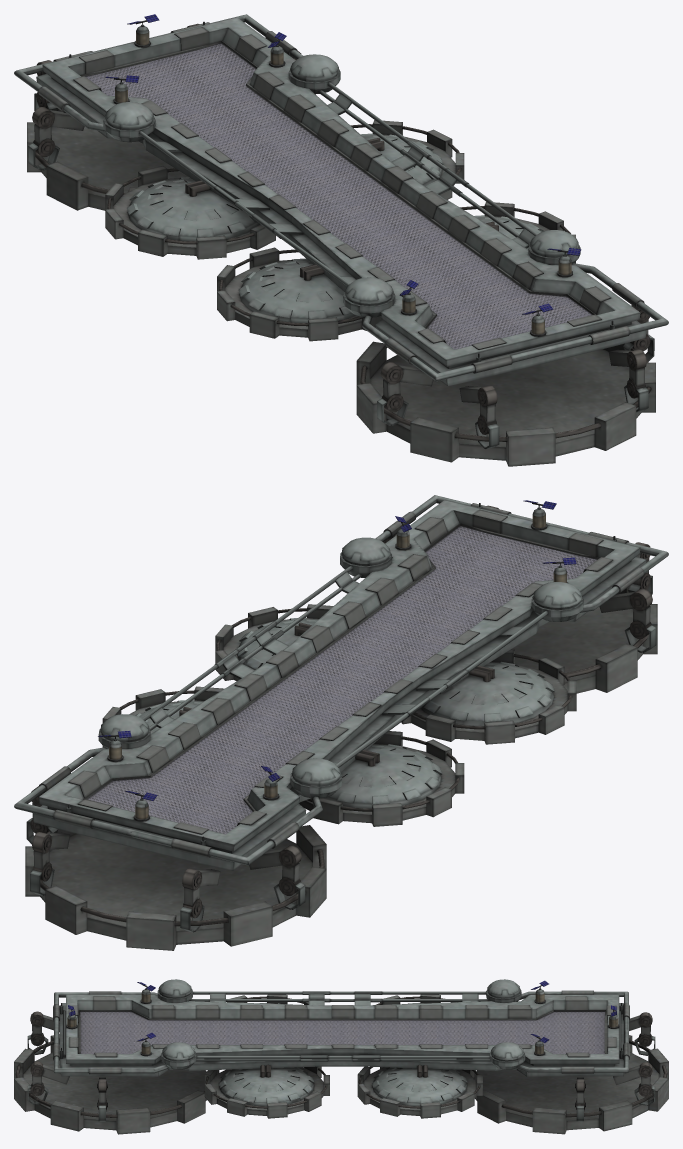
Rendered from Level1_V2.FBX.
3 views of the same model, one above another, from view 1: azimuth 30°, elevation 25°; view 2: azimuth 150°, elevation 25°; view 3: azimuth 270°, elevation 25° (orthographic). The views are drawn at different scales.
Parts seen in each view (by area): view 1: Level1; view 2: Level1; view 3: Level1.
Part boxes in pixels (x1=…): Level1: x1=14, y1=14, x2=668, y2=466; Level1: x1=14, y1=495, x2=668, y2=950; Level1: x1=14, y1=979, x2=668, y2=1134.
Bounding box in the file's own units: 51.93 × 17.31 × 127.
Materials: 1 (1 with a texture image).
